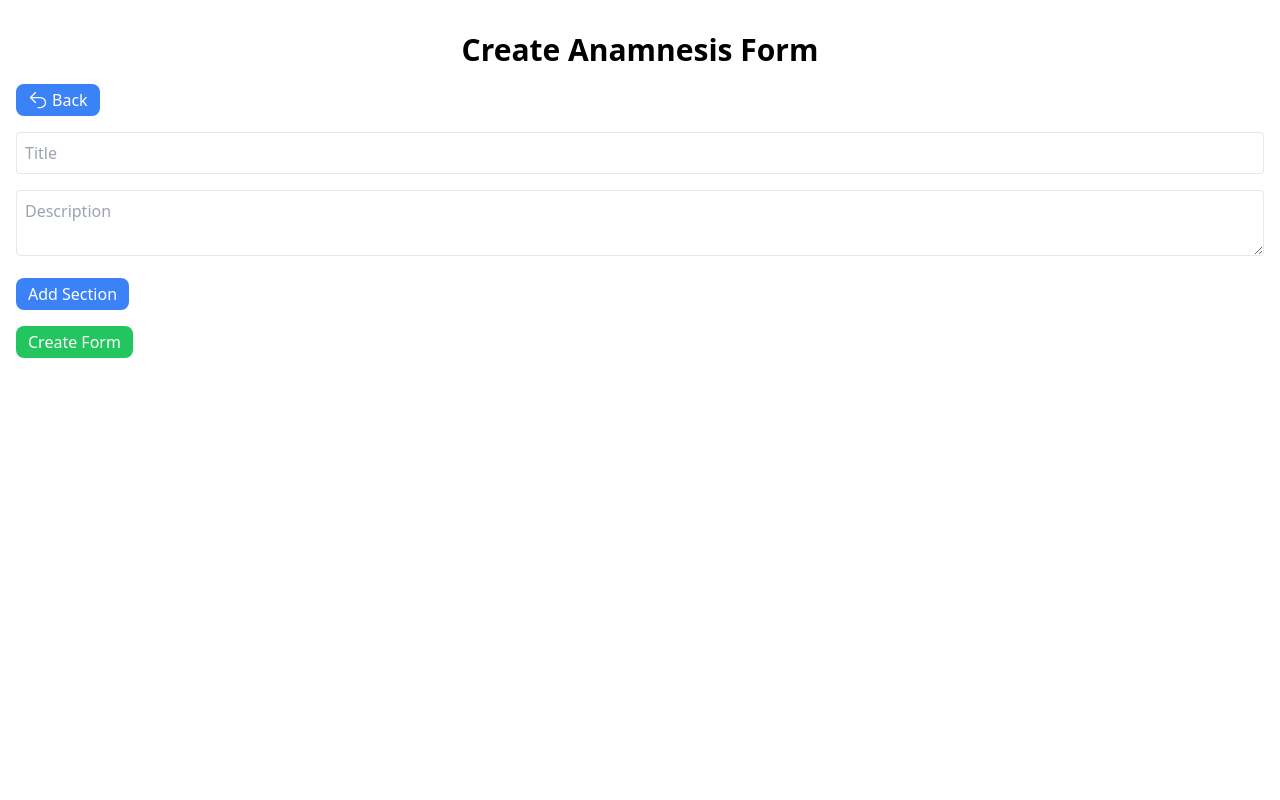
Test: CreateAnamnesisForm › allows adding a question to a section
Click the button "Add Section" at point(72, 294), box [16,278,129,310]
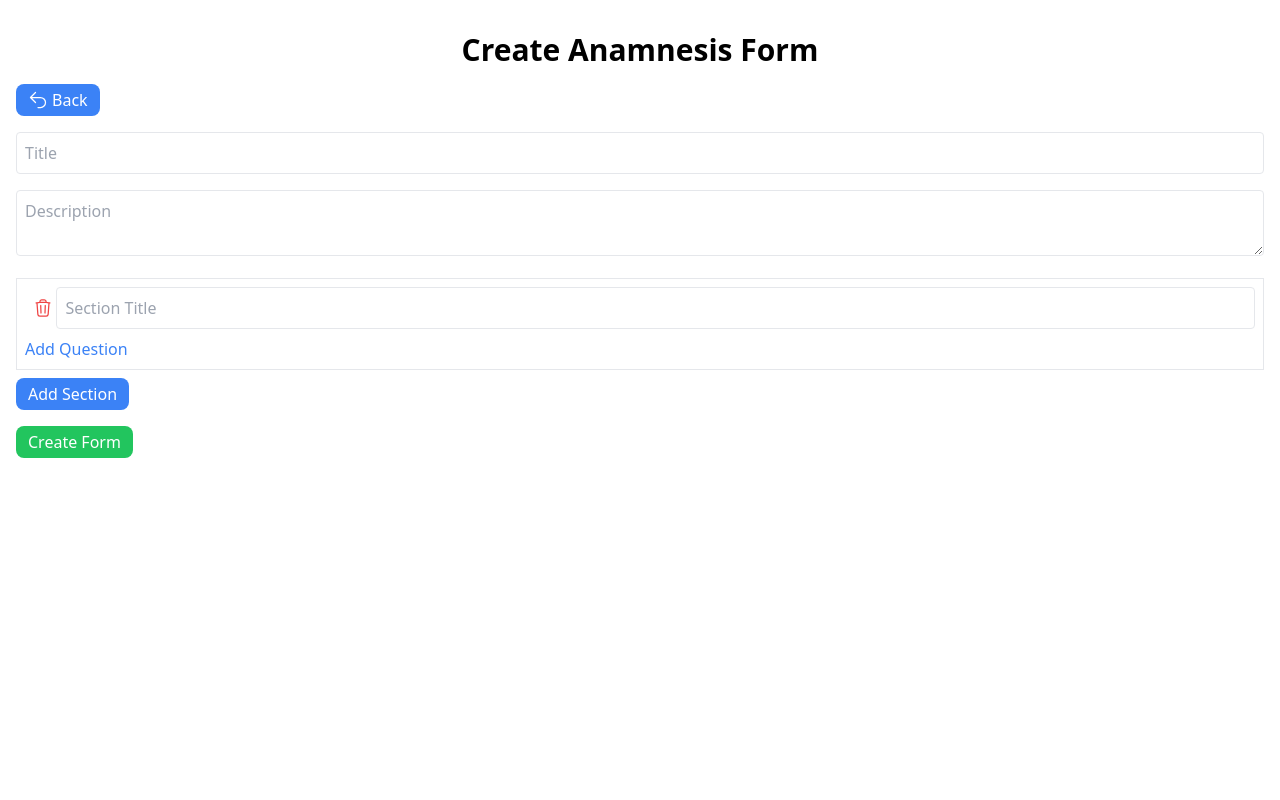
Type "General Questions" into the field with placeholder "Section Title" at point(656, 308), box [56,287,1255,329]
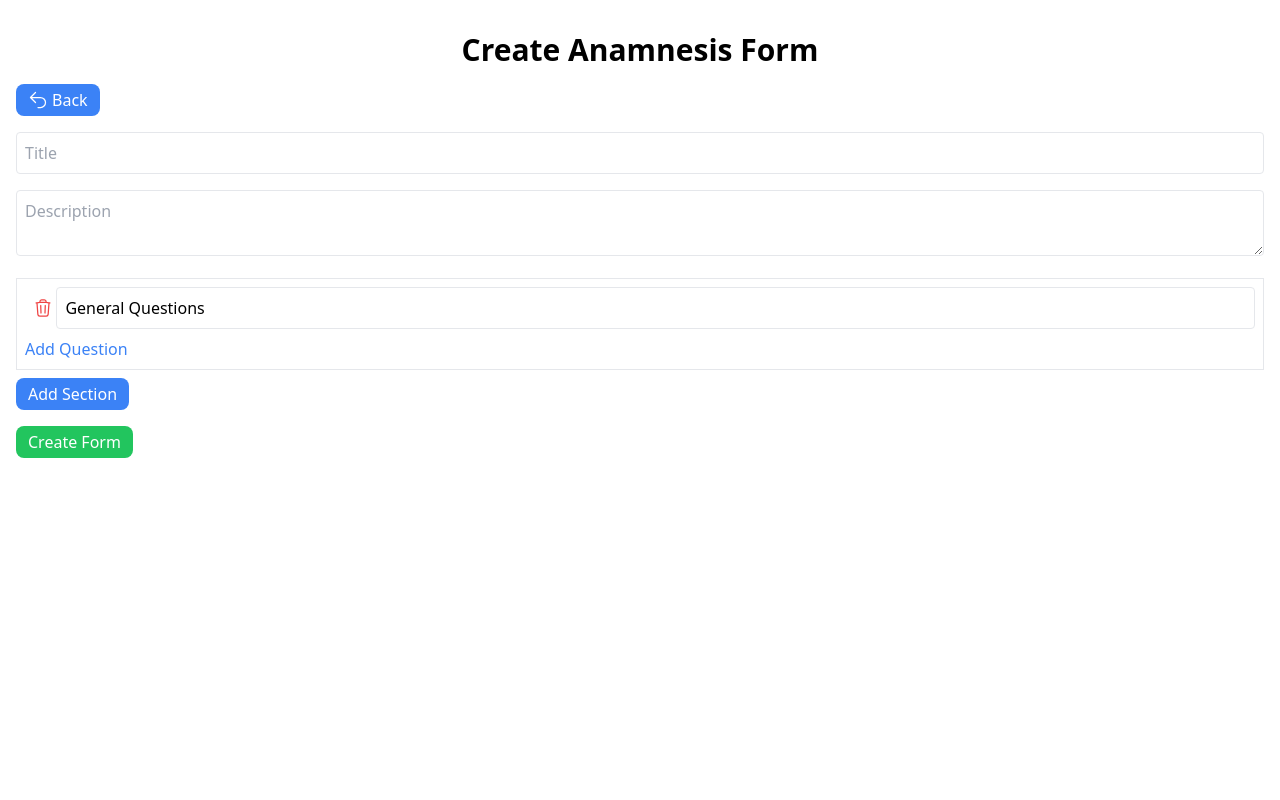
Click the button "Add Question" at point(76, 349), box [25,337,128,361]
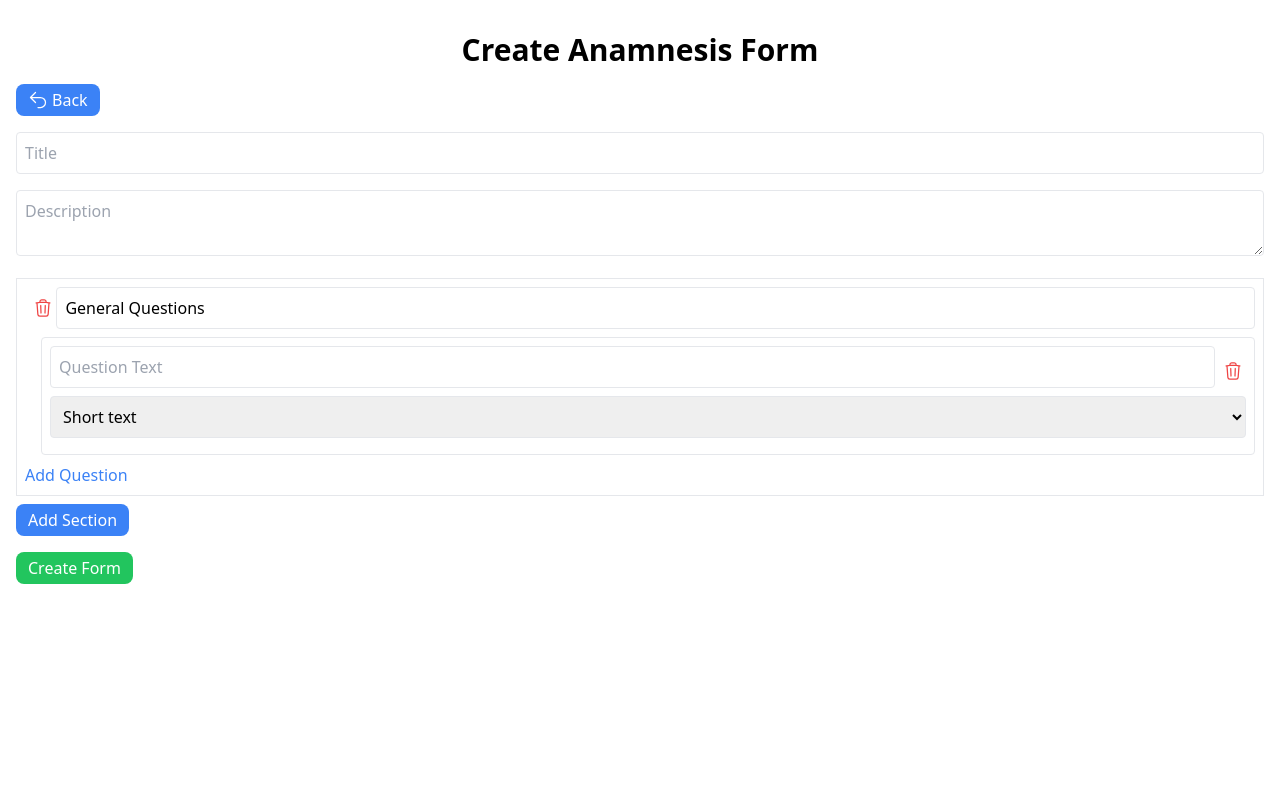
Result: the field with placeholder "Question Text" is shown at [50,346,1215,388]
